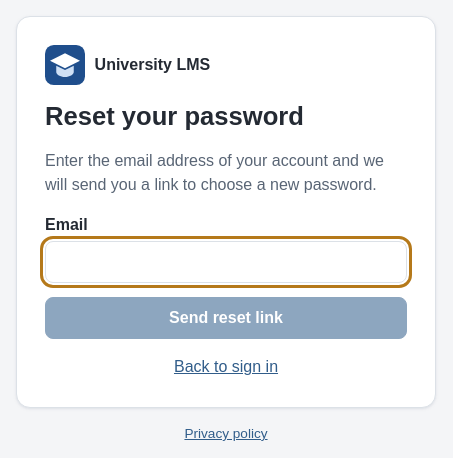
Test: password reset › asks for a reset link and does not reveal whether the account exists
This screenshot has width=453, height=458.
Type "someone@example.test" into the field labelled "Email" at coordinates (226, 262), box [45,241,407,283]
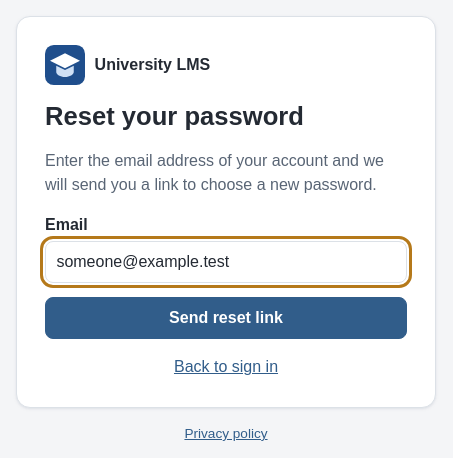
Click the button "Send reset link" at coordinates (226, 318), box [45,297,407,339]
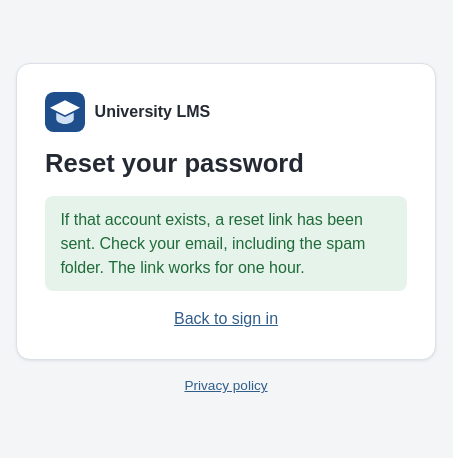
Check: the text "If that account exists" is shown, box [60,211,363,252]
